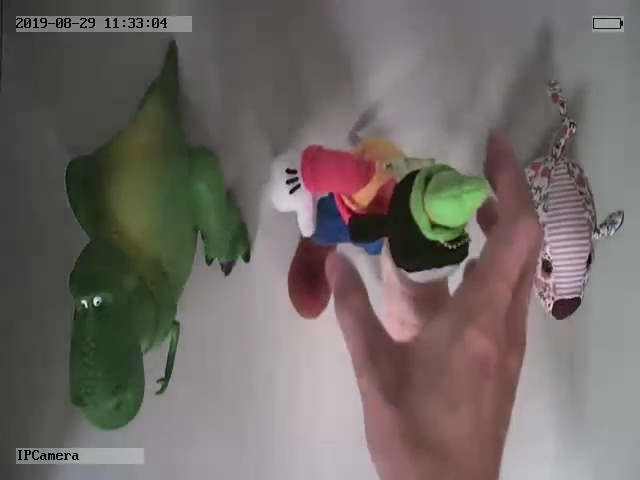goofy: (267, 141, 489, 343)
pig: (522, 77, 625, 320)
rex: (62, 40, 253, 431)
